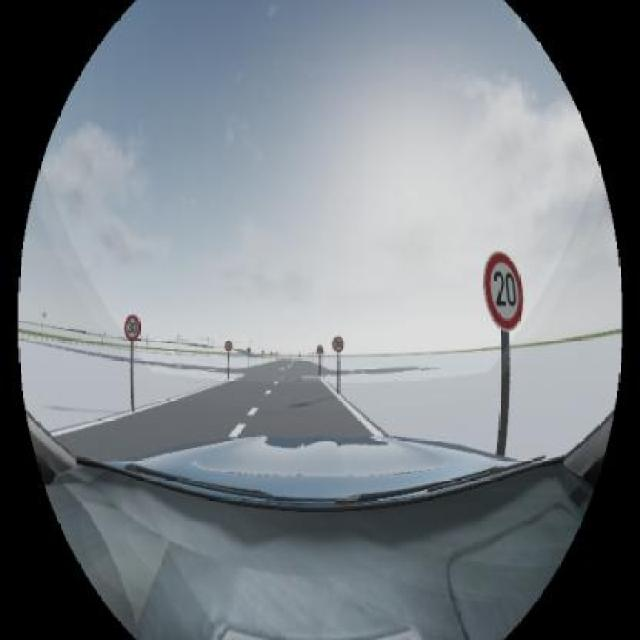forb_speed_over_20: (483, 251, 525, 332)
forb_speed_over_30: (125, 314, 140, 341)
